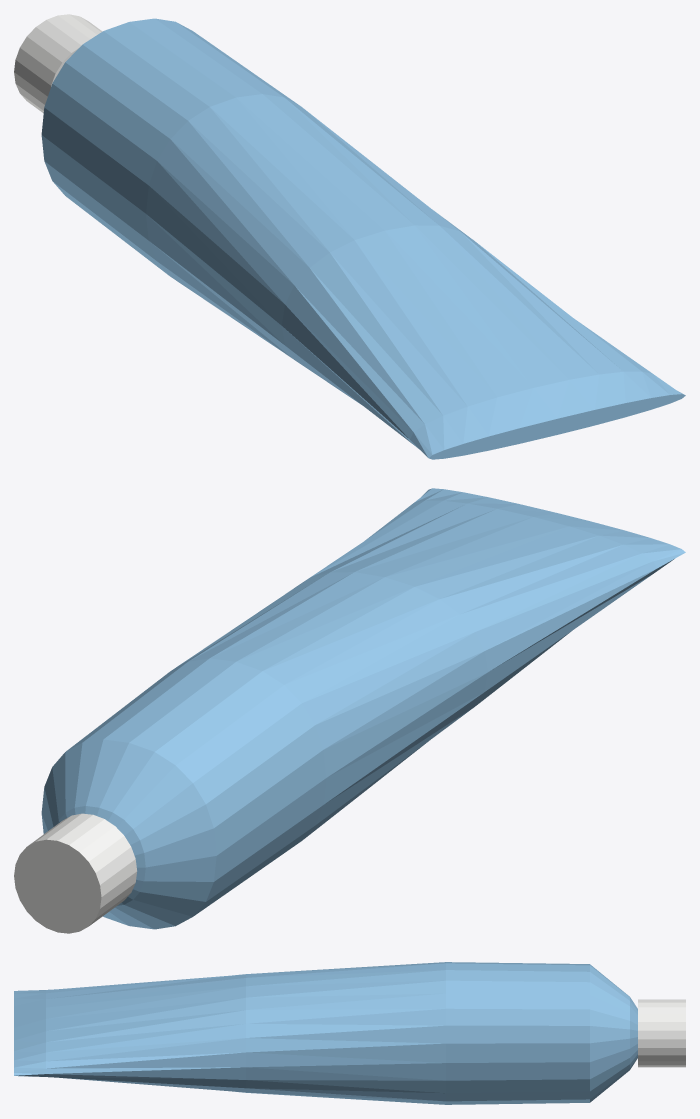
Rendered from creme_dental_tubo.obj.
3 renders of one model, top to bottom at view 1: azimuth 30°, elevation 25°; view 2: azimuth 150°, elevation 25°; view 3: azimuth 270°, elevation 25°, orthographic. The views are drawn at different scales.
Visible parts, largest first — view 1: creme_dental_tubo_tubo, creme_dental_tubo_tampa; view 2: creme_dental_tubo_tubo, creme_dental_tubo_tampa; view 3: creme_dental_tubo_tubo, creme_dental_tubo_tampa.
Boxes of the visible parts, <box> form: creme_dental_tubo_tubo: <box>41,18,685,459</box>; creme_dental_tubo_tampa: <box>14,14,102,113</box>; creme_dental_tubo_tubo: <box>41,488,685,929</box>; creme_dental_tubo_tampa: <box>14,813,137,933</box>; creme_dental_tubo_tubo: <box>14,962,637,1104</box>; creme_dental_tubo_tampa: <box>638,999,685,1067</box>.
Size of the model in its own units: 50 by 35 by 168.
